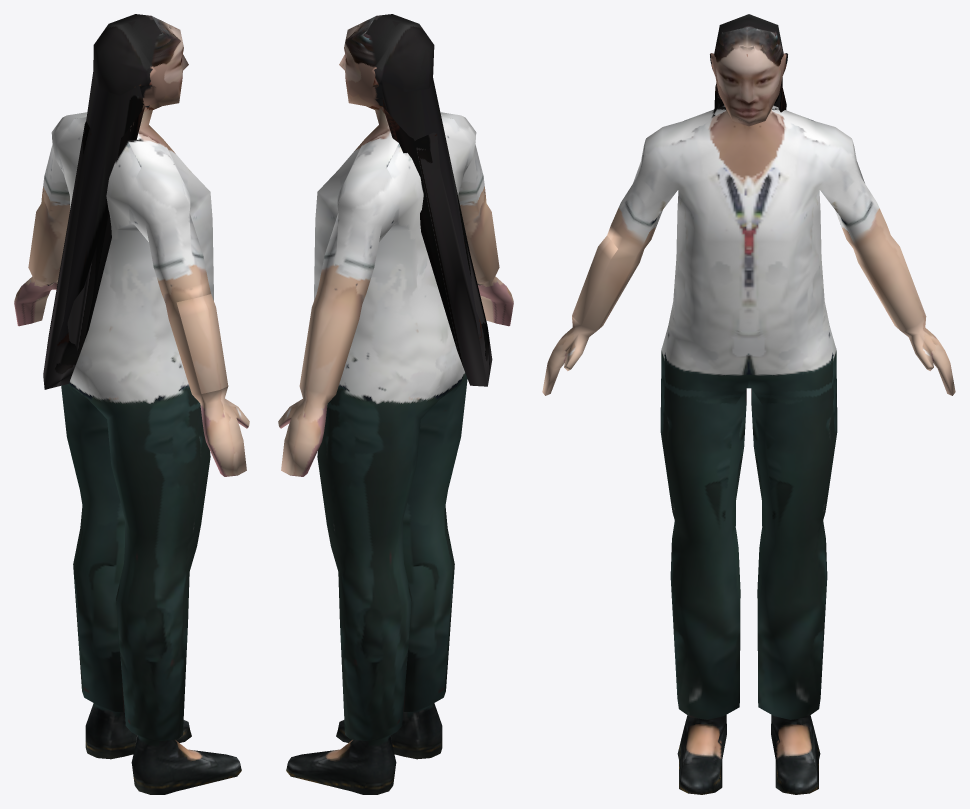
File: ira.fbx
The picture shows the model from 3 angles, left to right: view 1: azimuth 30°, elevation 25°; view 2: azimuth 150°, elevation 25°; view 3: azimuth 270°, elevation 25°; orthographic projection.
Parts seen in each view (by area): view 1: ira; view 2: ira; view 3: ira.
Part boxes in pixels (x1,y1,x2,y2): ira: (14,14,249,794); ira: (278,14,513,794); ira: (542,14,955,794).
Size of the model in its own units: 103 by 427 by 216.
